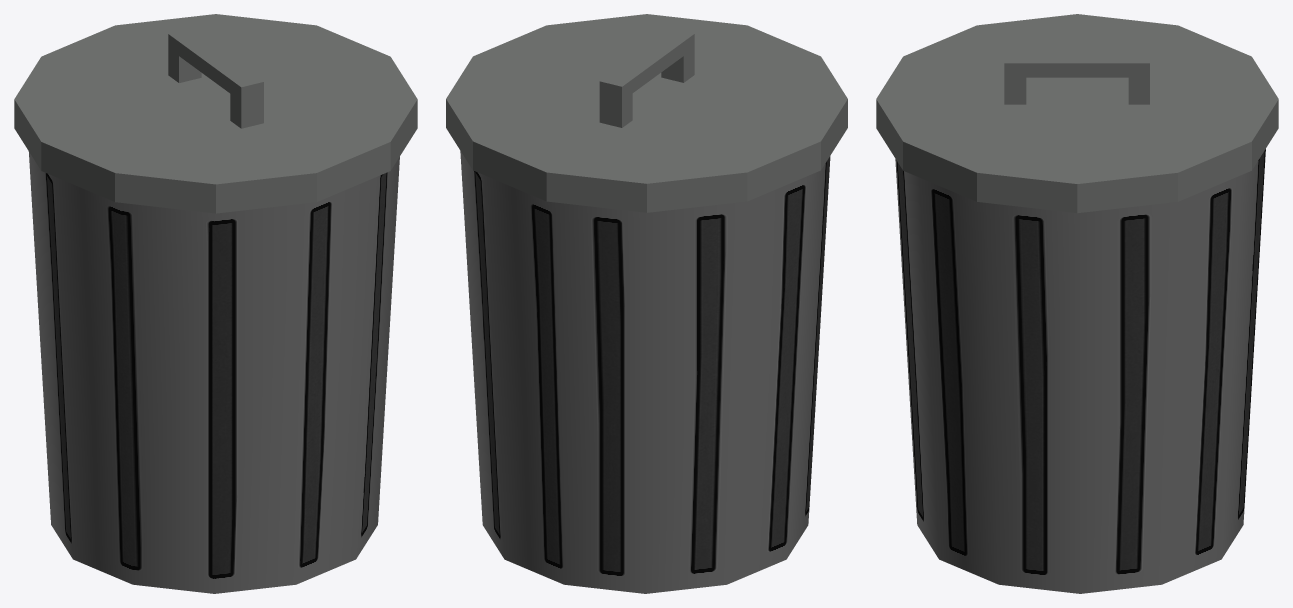
Rendered from Cocina_BoteBasuraConTapa_04.fbx.
The picture shows the model from 3 angles, left to right: view 1: azimuth 30°, elevation 25°; view 2: azimuth 150°, elevation 25°; view 3: azimuth 270°, elevation 25°; orthographic projection.
Visible parts, largest first — view 1: bote de basursa grande, tapa basurero grande, Box001; view 2: bote de basursa grande, tapa basurero grande, Box001; view 3: bote de basursa grande, tapa basurero grande, Box001.
Part boxes in pixels (x1,y1,x2,y2): bote de basursa grande: [28, 151, 399, 593]; tapa basurero grande: [14, 14, 417, 213]; Box001: [168, 28, 263, 128]; bote de basursa grande: [460, 151, 830, 593]; tapa basurero grande: [446, 14, 847, 212]; Box001: [599, 28, 694, 127]; bote de basursa grande: [895, 149, 1265, 593]; tapa basurero grande: [876, 14, 1278, 213]; Box001: [1004, 52, 1149, 104].
Bounding box in the file's own units: 43.18 × 55.29 × 43.18.
Materials: 3 (3 with a texture image).
